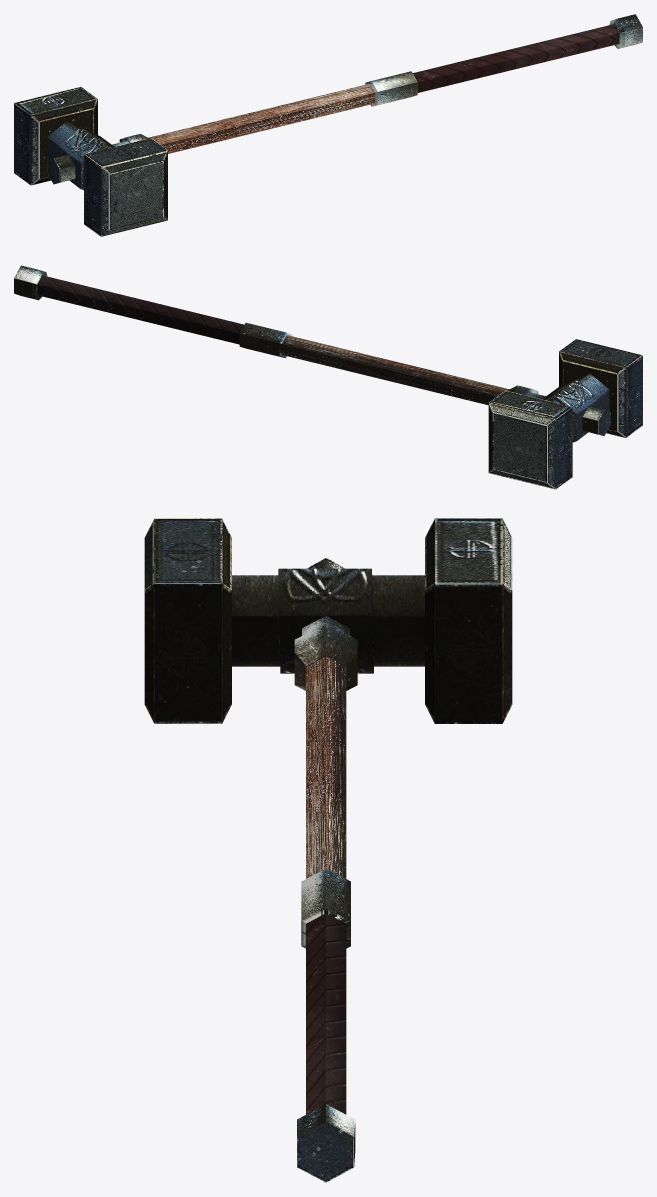
Rendered from KM_ITMW_2H_HAMMER_02.glb.
The picture shows the model from 3 angles, top to bottom: view 1: azimuth 30°, elevation 25°; view 2: azimuth 150°, elevation 25°; view 3: azimuth 270°, elevation 25°; orthographic projection. The views are drawn at different scales.
Visible parts, largest first — view 1: KM_ITMW_2H_HAMMER_02; view 2: KM_ITMW_2H_HAMMER_02; view 3: KM_ITMW_2H_HAMMER_02.
Part boxes in pixels (x1,y1,x2,y2): KM_ITMW_2H_HAMMER_02: [14, 14, 642, 236]; KM_ITMW_2H_HAMMER_02: [14, 265, 642, 489]; KM_ITMW_2H_HAMMER_02: [144, 518, 512, 1182].
Size of the model in its own units: 1.11 by 0.1282 by 0.3046.
Materials: 1 (1 with a texture image).
